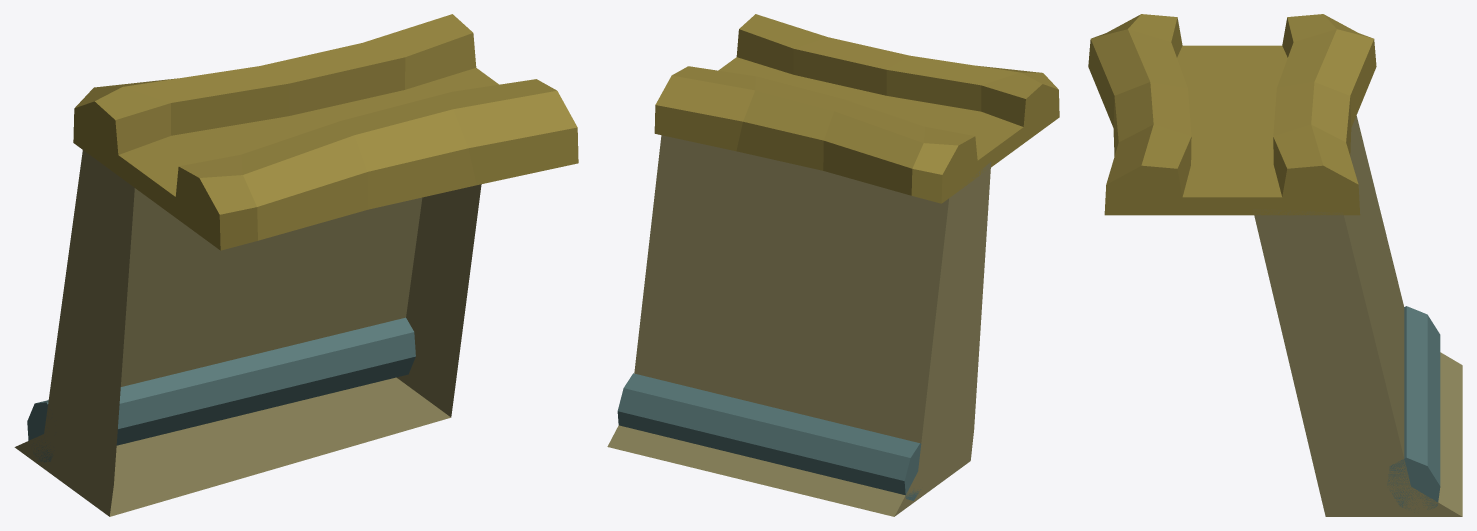
Rendered from Int_2_Wall_Hor_Mid_2.fbx.
The picture shows the model from 3 angles, left to right: view 1: azimuth 30°, elevation 25°; view 2: azimuth 150°, elevation 25°; view 3: azimuth 270°, elevation 25°; orthographic projection. The views are drawn at different scales.
Visible parts, largest first — view 1: Int_2_Wall_Hor_Mid_2; view 2: Int_2_Wall_Hor_Mid_2; view 3: Int_2_Wall_Hor_Mid_2.
Boxes of the visible parts, left/top/right/bottom form: Int_2_Wall_Hor_Mid_2: left=14, top=14, right=578, bottom=516; Int_2_Wall_Hor_Mid_2: left=607, top=14, right=1059, bottom=516; Int_2_Wall_Hor_Mid_2: left=1088, top=14, right=1462, bottom=516.
Size of the model in its own units: 0.9986 by 1.08 by 1.04.
